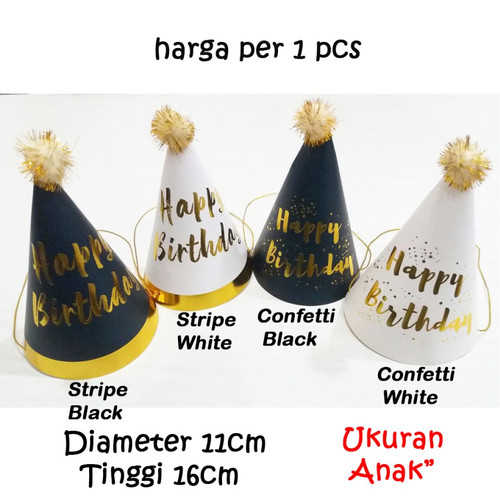cone: (25, 182, 159, 380), (343, 176, 473, 366), (142, 142, 252, 311), (252, 135, 360, 306)
